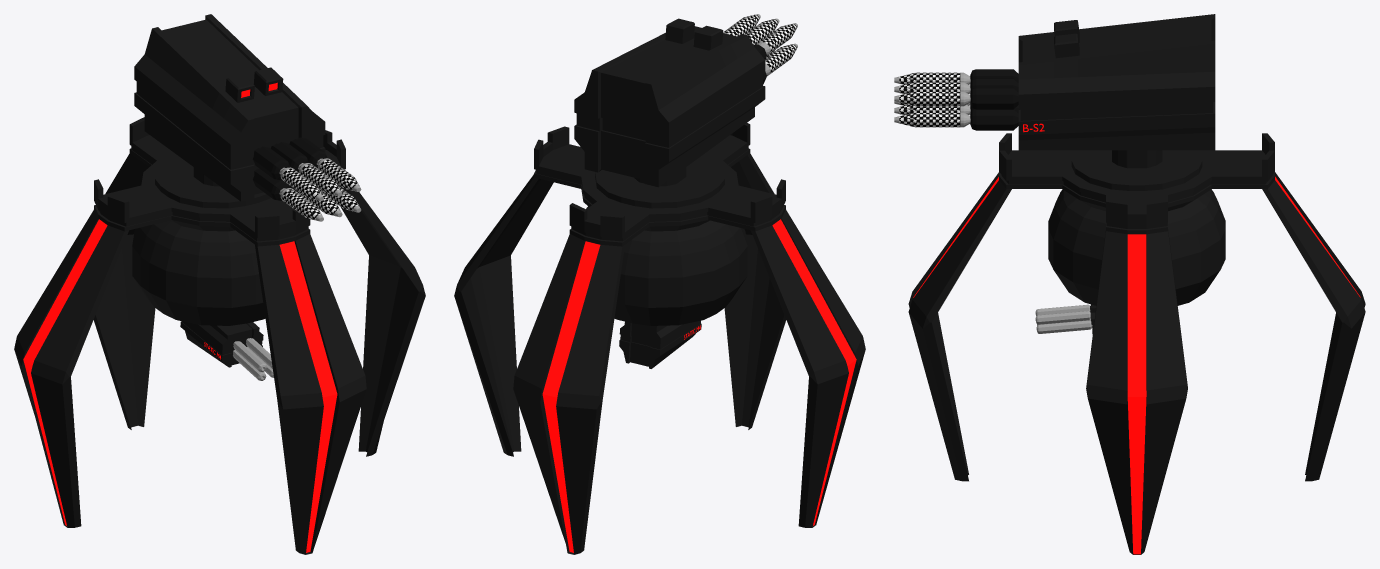
The model's file is bot_spider_2.glb.
3 views of the same model, side by side, from view 1: azimuth 30°, elevation 25°; view 2: azimuth 150°, elevation 25°; view 3: azimuth 270°, elevation 25° (orthographic). The views are drawn at different scales.
Visible parts, largest first — view 1: Cylinder.349, Bot_Spider_2, Cylinder.355, Cylinder.354, Cylinder.353, Cylinder.352, Cylinder.358, Cylinder.350, Cube.121, Cube.114, Cylinder.360, Cylinder.362 (+5 smaller); view 2: Cylinder.349, Bot_Spider_2, Cylinder.352, Cylinder.354, Cylinder.353, Cylinder.355, Cylinder.356, Cube.121, Cylinder.350, Cylinder.360, Cylinder.362; view 3: Bot_Spider_2, Cylinder.349, Cylinder.353, Cylinder.352, Cylinder.355, Cylinder.357, Cube.118, Cube.119, Cylinder.368, Cylinder.370, Cylinder.364, Cylinder.360.
Part boxes in pixels (bbox=[...]): Cylinder.349: bbox=[94, 117, 345, 325]; Bot_Spider_2: bbox=[134, 14, 325, 201]; Cylinder.355: bbox=[255, 234, 366, 554]; Cylinder.354: bbox=[14, 209, 128, 527]; Cylinder.353: bbox=[337, 184, 425, 456]; Cylinder.352: bbox=[93, 153, 155, 429]; Cylinder.358: bbox=[279, 241, 337, 552]; Cylinder.350: bbox=[23, 219, 107, 525]; Cube.121: bbox=[180, 321, 263, 367]; Cube.114: bbox=[253, 146, 289, 180]; Cylinder.360: bbox=[282, 168, 321, 199]; Cylinder.362: bbox=[282, 189, 321, 220]; Cylinder.349: bbox=[534, 123, 785, 325]; Bot_Spider_2: bbox=[574, 18, 765, 187]; Cylinder.352: bbox=[513, 234, 624, 554]; Cylinder.354: bbox=[751, 209, 865, 527]; Cylinder.353: bbox=[454, 174, 553, 456]; Cylinder.355: bbox=[724, 153, 786, 429]; Cylinder.356: bbox=[542, 241, 600, 552]; Cube.121: bbox=[619, 320, 701, 368]; Cylinder.350: bbox=[772, 219, 856, 525]; Cylinder.360: bbox=[759, 23, 796, 53]; Cylinder.362: bbox=[765, 44, 796, 74]; Bot_Spider_2: bbox=[1018, 14, 1215, 150]; Cylinder.349: bbox=[999, 133, 1274, 305]; Cylinder.353: bbox=[1086, 229, 1187, 554]; Cylinder.352: bbox=[1262, 172, 1365, 481]; Cylinder.355: bbox=[908, 172, 1011, 481]; Cylinder.357: bbox=[1127, 234, 1146, 554]; Cube.118: bbox=[970, 87, 1018, 109]; Cube.119: bbox=[970, 109, 1018, 130]; Cylinder.368: bbox=[899, 91, 960, 106]; Cylinder.370: bbox=[899, 112, 960, 127]; Cylinder.364: bbox=[899, 82, 960, 93]; Cylinder.360: bbox=[899, 72, 960, 84].
Bounding box in the file's own units: 9.22 × 10 × 9.5.
Materials: 5 (1 with a texture image).
